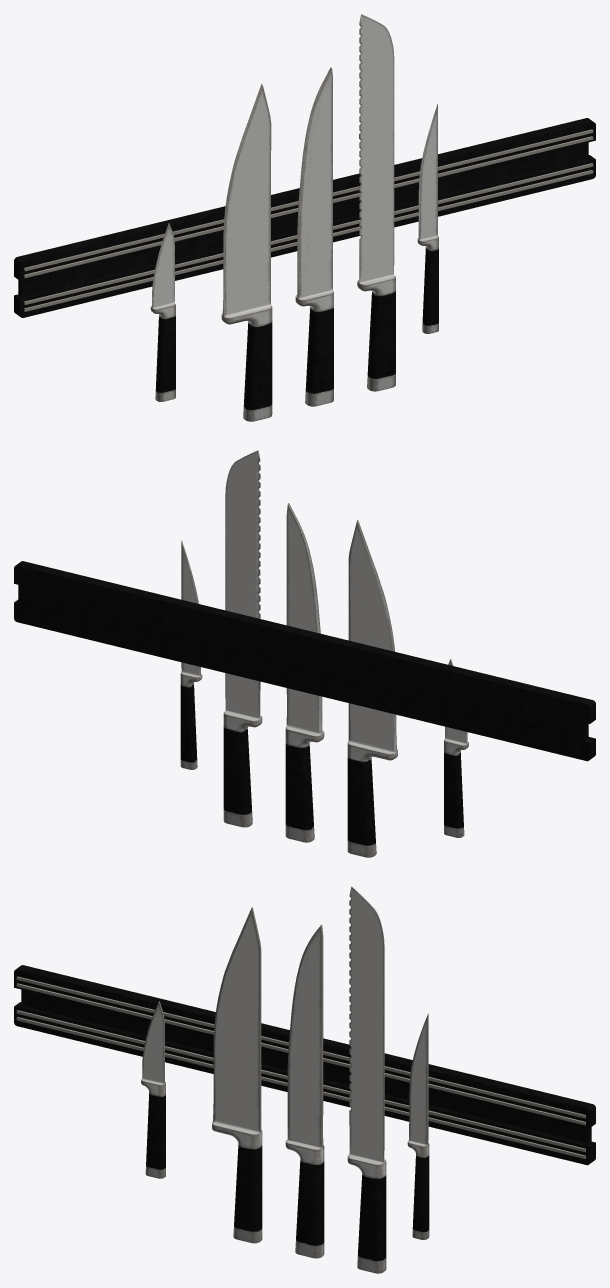
Rendered from Knives.fbx.
3 renders of one model, top to bottom at view 1: azimuth 30°, elevation 25°; view 2: azimuth 150°, elevation 25°; view 3: azimuth 330°, elevation 25°, orthographic.
Parts seen in each view (by area): view 1: KnivesOnMagneticStrip001_strip.001, KnivesOnMagneticStrip001_knive02.001, KnivesOnMagneticStrip001_knive04.001, KnivesOnMagneticStrip001_knive03.001, KnivesOnMagneticStrip001_knive01.001, KnivesOnMagneticStrip001_knive05.001; view 2: KnivesOnMagneticStrip001_strip.001, KnivesOnMagneticStrip001_knive02.001, KnivesOnMagneticStrip001_knive04.001, KnivesOnMagneticStrip001_knive03.001, KnivesOnMagneticStrip001_knive01.001, KnivesOnMagneticStrip001_knive05.001; view 3: KnivesOnMagneticStrip001_strip.001, KnivesOnMagneticStrip001_knive02.001, KnivesOnMagneticStrip001_knive04.001, KnivesOnMagneticStrip001_knive03.001, KnivesOnMagneticStrip001_knive01.001, KnivesOnMagneticStrip001_knive05.001.
Boxes of the visible parts, left/top/right/bottom form: KnivesOnMagneticStrip001_strip.001: left=14, top=118, right=595, bottom=317; KnivesOnMagneticStrip001_knive02.001: left=357, top=14, right=395, bottom=391; KnivesOnMagneticStrip001_knive04.001: left=221, top=83, right=272, bottom=421; KnivesOnMagneticStrip001_knive03.001: left=295, top=67, right=333, bottom=406; KnivesOnMagneticStrip001_knive01.001: left=417, top=104, right=438, bottom=333; KnivesOnMagneticStrip001_knive05.001: left=150, top=223, right=175, bottom=401; KnivesOnMagneticStrip001_strip.001: left=14, top=561, right=595, bottom=761; KnivesOnMagneticStrip001_knive02.001: left=223, top=450, right=262, bottom=827; KnivesOnMagneticStrip001_knive04.001: left=347, top=520, right=397, bottom=857; KnivesOnMagneticStrip001_knive03.001: left=285, top=503, right=324, bottom=842; KnivesOnMagneticStrip001_knive01.001: left=180, top=540, right=202, bottom=769; KnivesOnMagneticStrip001_knive05.001: left=444, top=659, right=468, bottom=837; KnivesOnMagneticStrip001_strip.001: left=14, top=965, right=595, bottom=1165; KnivesOnMagneticStrip001_knive02.001: left=347, top=886, right=386, bottom=1273; KnivesOnMagneticStrip001_knive04.001: left=212, top=907, right=262, bottom=1243; KnivesOnMagneticStrip001_knive03.001: left=285, top=925, right=324, bottom=1258; KnivesOnMagneticStrip001_knive01.001: left=407, top=1013, right=429, bottom=1239; KnivesOnMagneticStrip001_knive05.001: left=141, top=1001, right=165, bottom=1178.
Size of the model in its own units: 57.53 by 36.03 by 2.08.
Materials: 1 (1 with a texture image).
